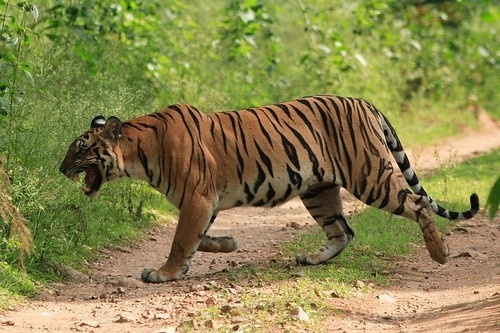tigre: (57, 94, 484, 284)
